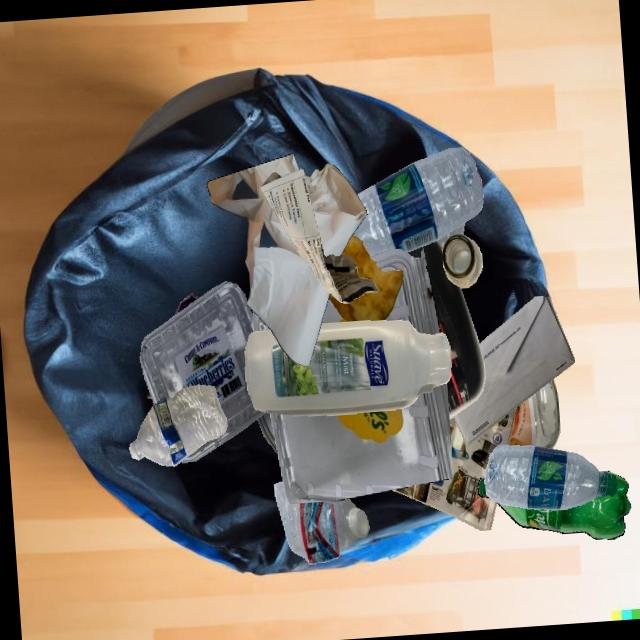biowaste: (328, 234, 403, 321)
cardboard: (174, 293, 199, 315)
glass: (509, 379, 559, 448), (441, 234, 482, 287)
paper: (207, 153, 329, 366), (453, 296, 574, 444), (259, 168, 378, 303), (391, 407, 516, 530), (304, 163, 367, 256), (439, 328, 441, 333)
plastic: (140, 281, 265, 463), (254, 269, 403, 415), (290, 382, 453, 503), (245, 320, 451, 415), (352, 147, 483, 256), (406, 240, 485, 419), (496, 470, 630, 539), (484, 445, 617, 509), (129, 384, 227, 466), (274, 481, 369, 563), (437, 222, 464, 249), (326, 498, 346, 502)
